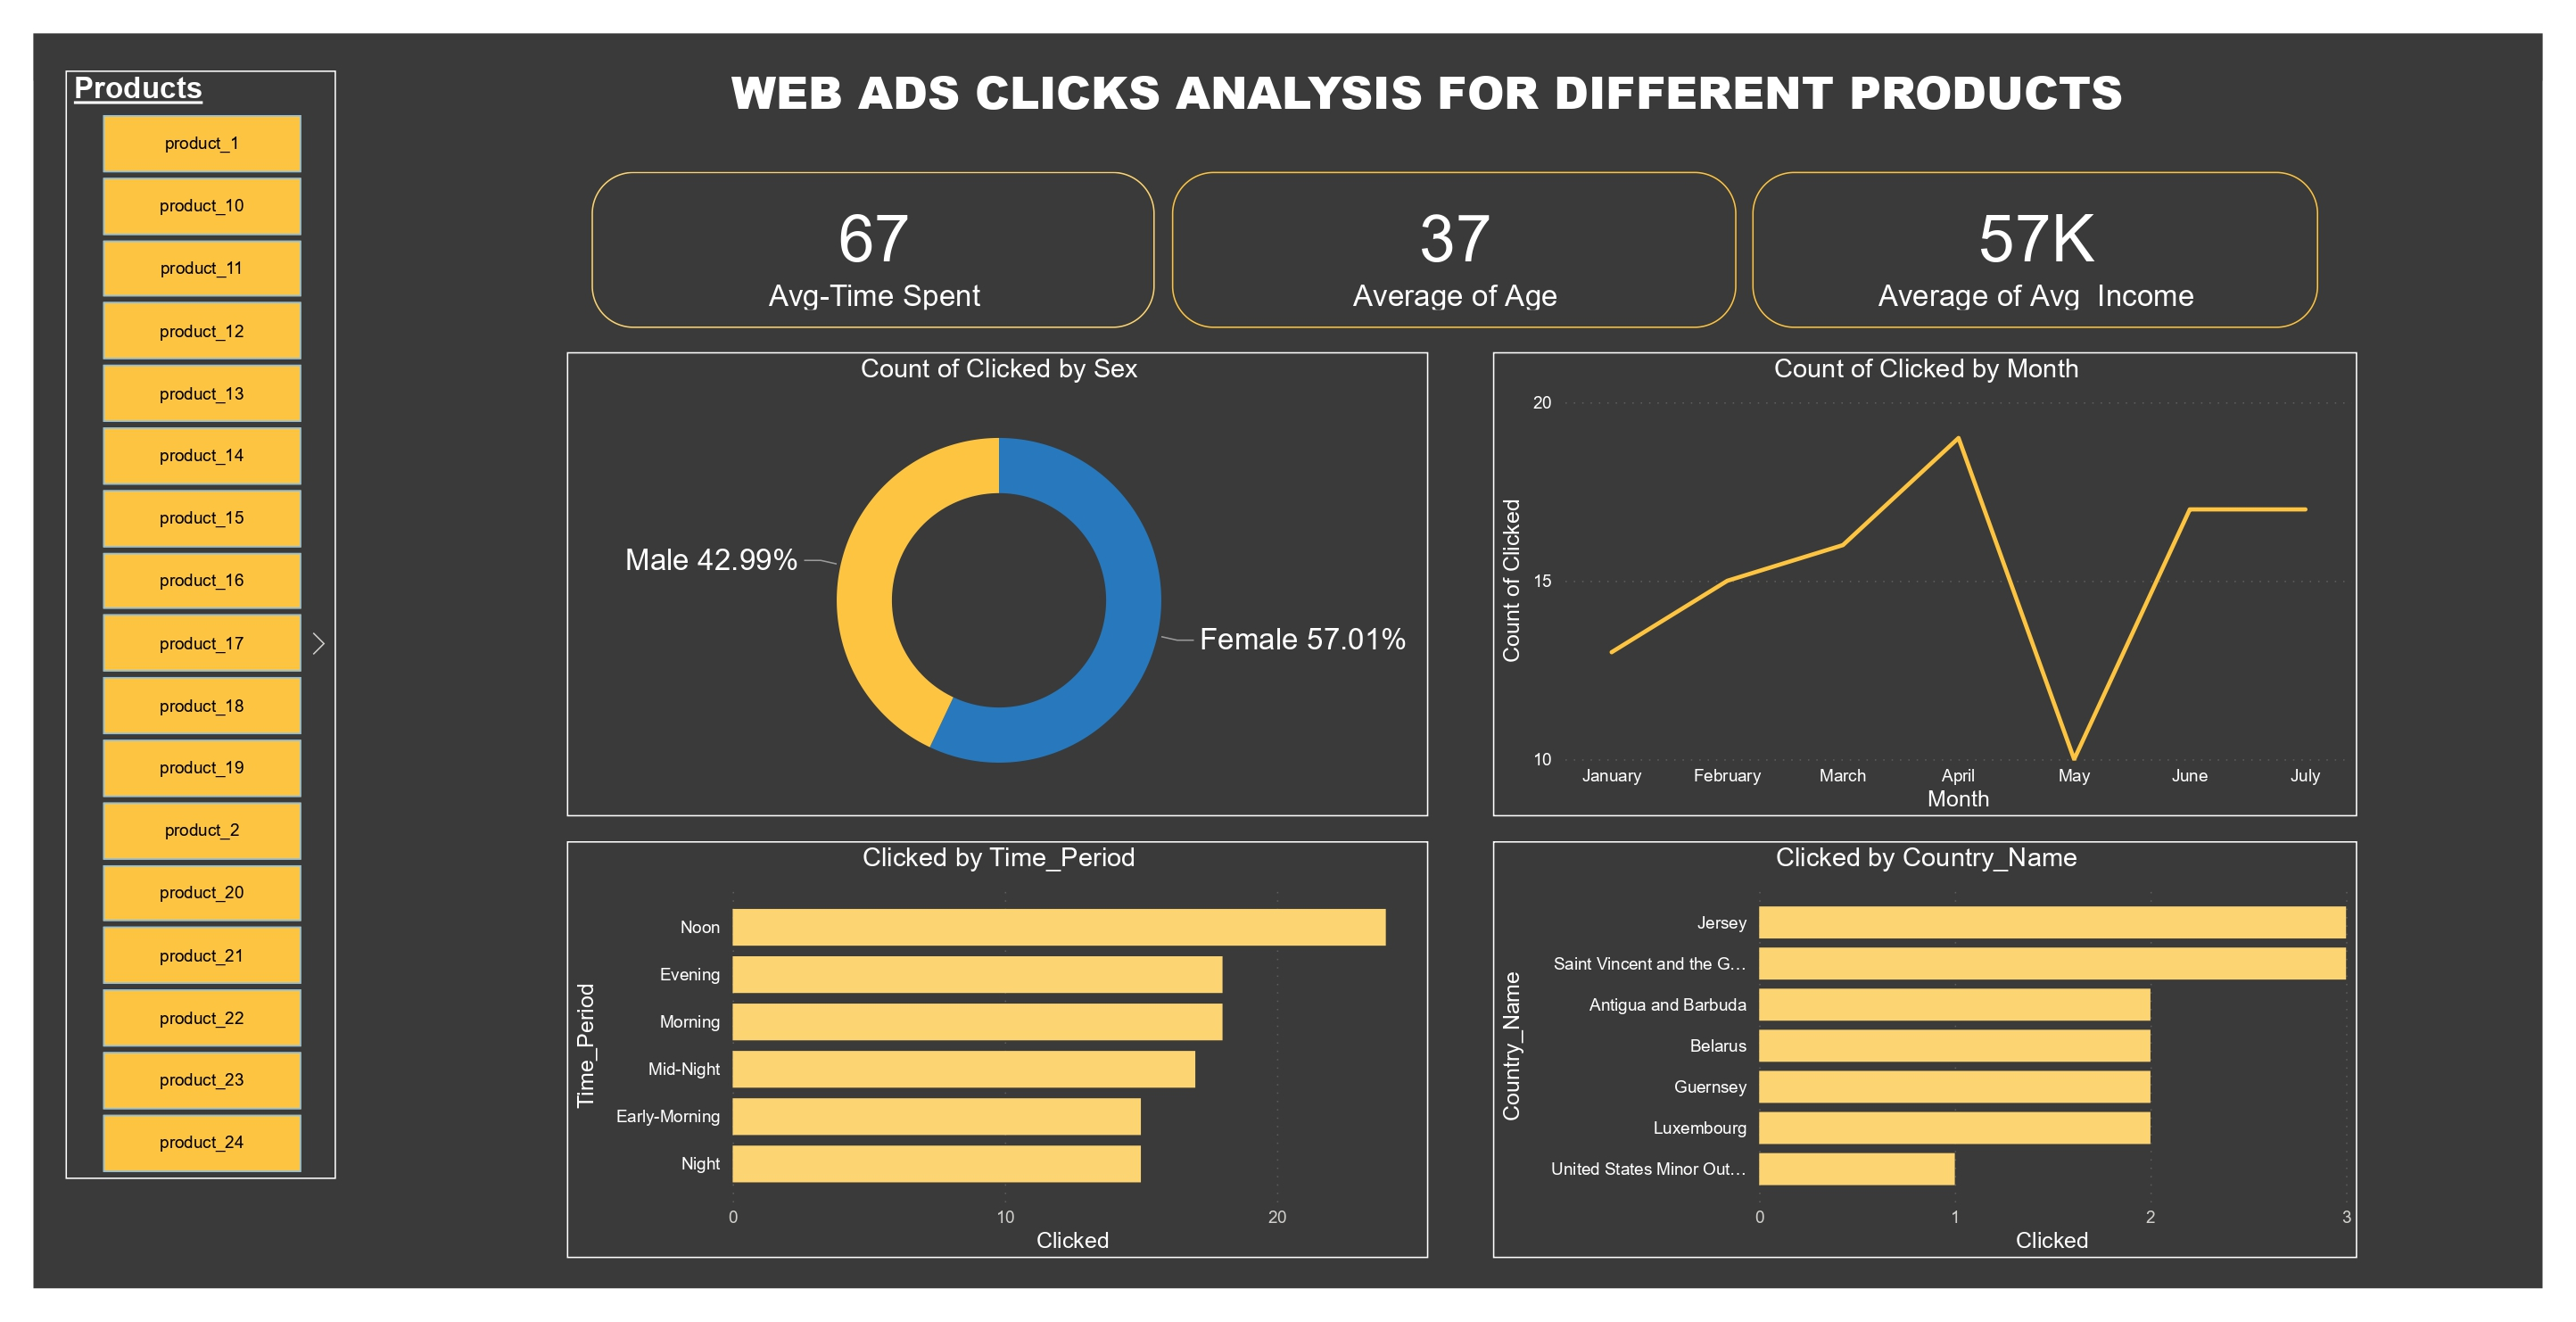

This screenshot's page, from the dashboard's own definition file:
{"tool":"powerbi","page":{"name":"Page 1","canvas":[1800,900],"ordinal":0},"visuals":[{"type":"card","fields":{"Values":["WebAnalytics_Data-Python.Time_Spent"]},"box":[400.4,99.2,403.9,112],"z":0},{"type":"lineChart","fields":{"Category":["WebAnalytics_Data-Python.Date.Variation.Date Hierarchy.Month"],"Y":["WebAnalytics_Data-Python.Clicked"]},"box":[1047,228.5,620.1,333.1],"z":1000},{"type":"clusteredColumnChart","fields":{"Category":["WebAnalytics_Data-Python.Country_Name"],"Y":["WebAnalytics_Data-Python.Clicked"]},"box":[1047,579.3,620.1,299.4],"z":2000},{"type":"clusteredBarChart","fields":{"Category":["WebAnalytics_Data-Python.Time_Period"],"Y":["WebAnalytics_Data-Python.Clicked"]},"box":[382.7,579.3,618.3,299.4],"z":3000},{"type":"slicer","title":"Products","fields":{"Values":["WebAnalytics_Data-Python.Ad_Topic"]},"box":[23.2,27.1,193.5,795.5],"z":4000},{"type":"textbox","box":[259.4,13.5,1482.6,85.2],"z":5000},{"type":"card","fields":{"Values":["WebAnalytics_Data-Python.Age"]},"box":[816.8,98.7,404.5,112.3],"z":6000},{"type":"card","fields":{"Values":["WebAnalytics_Data-Python.Avg_Income"]},"box":[1233.1,99.2,405.7,111.6],"z":7000},{"type":"donutChart","title":"Count of Clicked by Sex","fields":{"Category":["WebAnalytics_Data-Python.Sex"],"Y":["WebAnalytics_Data-Python.Clicked"]},"box":[382.7,228.5,618.3,333.1],"z":8000}]}

Visuals, with their boxes on the page's 1800x900 design canvas (x1, y1, x2, y2). These are canvas units, not pixel positions in the 2576x1322 screenshot, which may show the page scaled, cropped or inside an application window:
card - WebAnalytics_Data-Python.Time_Spent: (400, 99, 804, 211)
lineChart - WebAnalytics_Data-Python.Date.Variation.Date Hierarchy.Month x WebAnalytics_Data-Python.Clicked: (1047, 228, 1667, 562)
clusteredColumnChart - WebAnalytics_Data-Python.Country_Name x WebAnalytics_Data-Python.Clicked: (1047, 579, 1667, 879)
clusteredBarChart - WebAnalytics_Data-Python.Time_Period x WebAnalytics_Data-Python.Clicked: (383, 579, 1001, 879)
"Products" slicer: (23, 27, 217, 823)
textbox: (259, 14, 1742, 99)
card - WebAnalytics_Data-Python.Age: (817, 99, 1221, 211)
card - WebAnalytics_Data-Python.Avg_Income: (1233, 99, 1639, 211)
"Count of Clicked by Sex" donutChart: (383, 228, 1001, 562)
